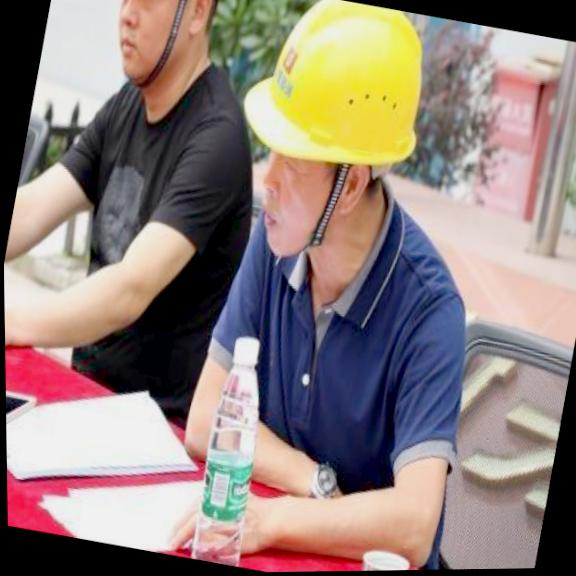no_safety_vest: (173, 151, 512, 530), (28, 37, 262, 414)
